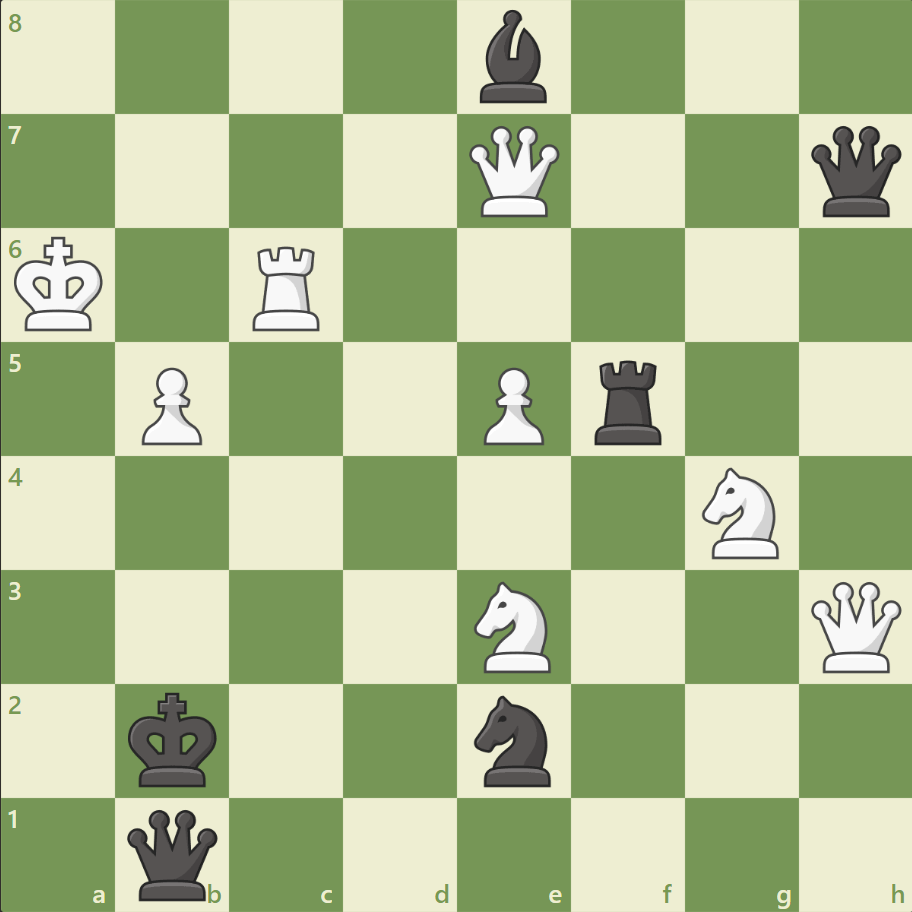K: (11, 231, 111, 339)
N: (692, 461, 789, 564), (465, 575, 562, 677)
P: (133, 359, 208, 450), (474, 359, 549, 450)
Q: (464, 122, 563, 222), (805, 576, 904, 676)
R: (246, 239, 329, 336)
b: (471, 6, 555, 109)
k: (124, 685, 224, 793)
n: (465, 688, 562, 791)
q: (805, 122, 904, 222), (124, 804, 223, 903)
r: (587, 352, 670, 449)
